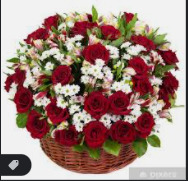RedRose: (135, 110, 158, 144), (80, 120, 105, 147), (52, 60, 77, 86), (127, 54, 155, 77), (124, 31, 156, 51), (54, 125, 83, 147), (109, 121, 133, 147), (3, 64, 29, 87), (45, 101, 72, 123), (79, 94, 106, 116), (83, 41, 108, 64), (13, 86, 34, 113), (26, 112, 46, 138), (21, 26, 49, 44), (129, 72, 150, 95), (99, 23, 122, 44), (72, 19, 97, 37), (111, 92, 129, 116), (162, 49, 181, 71), (119, 9, 137, 31), (41, 13, 62, 31), (162, 73, 178, 96), (158, 90, 169, 110)
